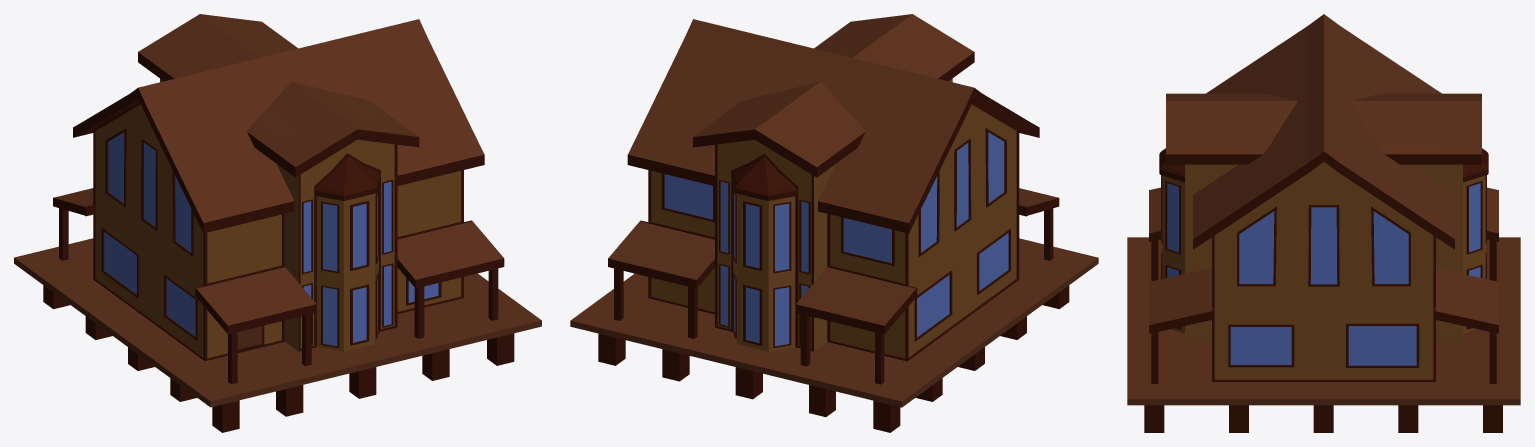
File: Mansion Viajero Solitario.fbx
3 renders of one model, left to right at view 1: azimuth 30°, elevation 25°; view 2: azimuth 150°, elevation 25°; view 3: azimuth 270°, elevation 25°, orthographic.
Parts seen in each view (by area): view 1: TechoMan, ParedesMan, MaderaMan, SueloMan, VentanasMan, PalosBaseMan, PalosMan; view 2: TechoMan, ParedesMan, MaderaMan, SueloMan, VentanasMan, PalosBaseMan, PalosMan; view 3: TechoMan, ParedesMan, SueloMan, MaderaMan, VentanasMan, PalosBaseMan, PalosMan.
Part boxes in pixels (x1=…): TechoMan: x1=53, y1=14, x2=503, y2=325; ParedesMan: x1=96, y1=78, x2=461, y2=358; MaderaMan: x1=53, y1=52, x2=504, y2=361; SueloMan: x1=14, y1=238, x2=541, y2=407; VentanasMan: x1=104, y1=132, x2=438, y2=345; PalosBaseMan: x1=43, y1=285, x2=514, y2=432; PalosMan: x1=59, y1=208, x2=498, y2=384; TechoMan: x1=608, y1=14, x2=1058, y2=325; ParedesMan: x1=651, y1=78, x2=1016, y2=358; MaderaMan: x1=608, y1=52, x2=1059, y2=361; SueloMan: x1=570, y1=238, x2=1098, y2=407; VentanasMan: x1=664, y1=132, x2=1008, y2=346; PalosBaseMan: x1=598, y1=285, x2=1069, y2=432; PalosMan: x1=614, y1=208, x2=1053, y2=384; TechoMan: x1=1149, y1=14, x2=1498, y2=324; ParedesMan: x1=1162, y1=162, x2=1485, y2=379; SueloMan: x1=1127, y1=237, x2=1520, y2=405; MaderaMan: x1=1149, y1=148, x2=1498, y2=381; VentanasMan: x1=1167, y1=183, x2=1480, y2=365; PalosBaseMan: x1=1144, y1=405, x2=1502, y2=432; PalosMan: x1=1151, y1=240, x2=1496, y2=383.
Size of the model in its own units: 2464 by 1978 by 2529.
